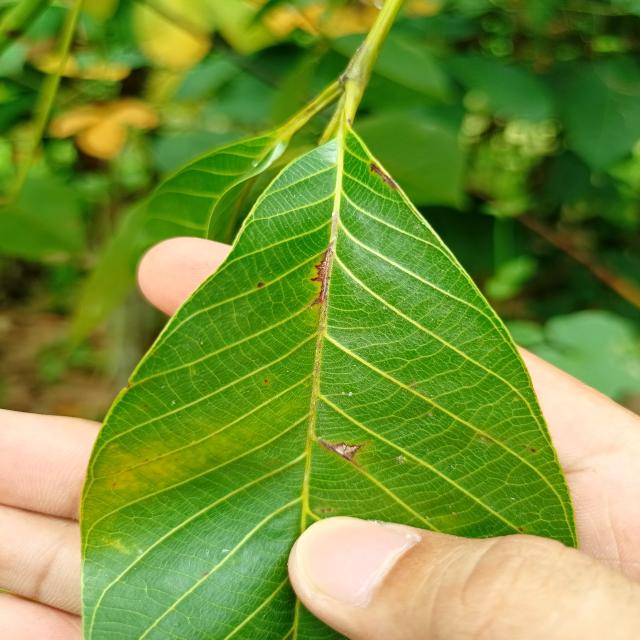Corynespora: (317, 438, 370, 467), (309, 249, 334, 309)
